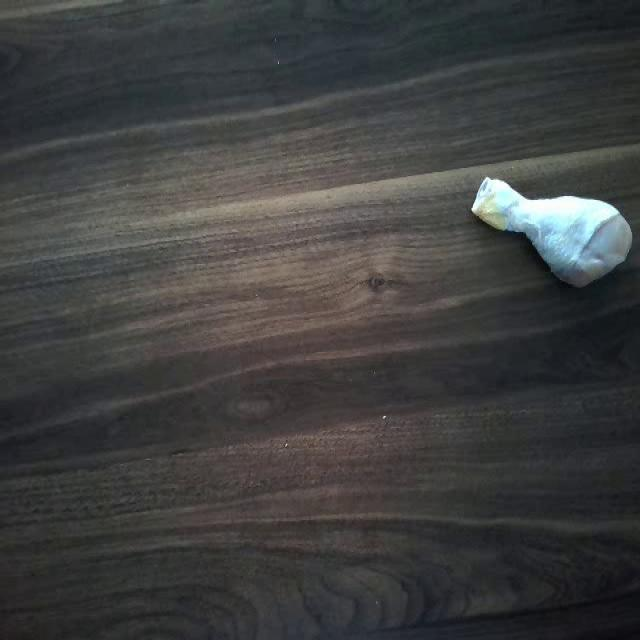leg: (469, 170, 628, 286)
